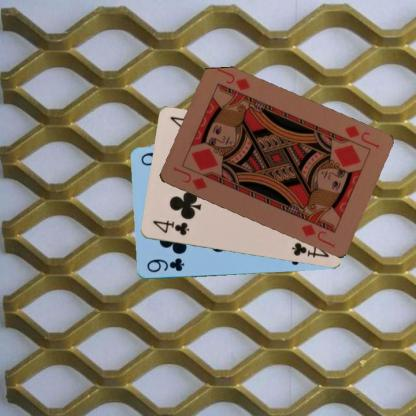4c: (150, 218, 190, 237)
9c: (144, 255, 185, 274)
Jd: (170, 164, 208, 192), (342, 122, 380, 150)
